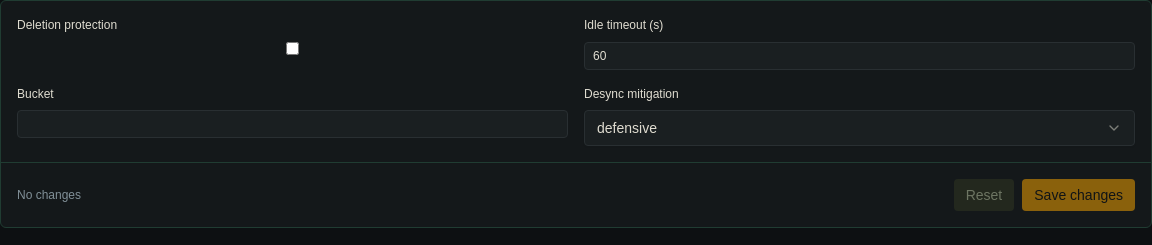
Test: AttributesEditor › Reset reverts dirty values back to initial
This screenshot has width=1152, height=245.
Click the checkbox labelled "Deletion protection": (292, 48) [17,42,568,54]
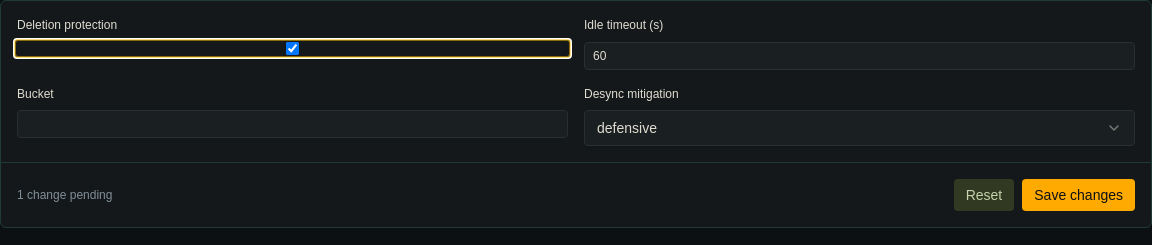
expect the checkbox labelled "Deletion protection" is checked: met, box [17,42,568,54]
Click the button "Reset": (984, 195) [954,179,1014,211]
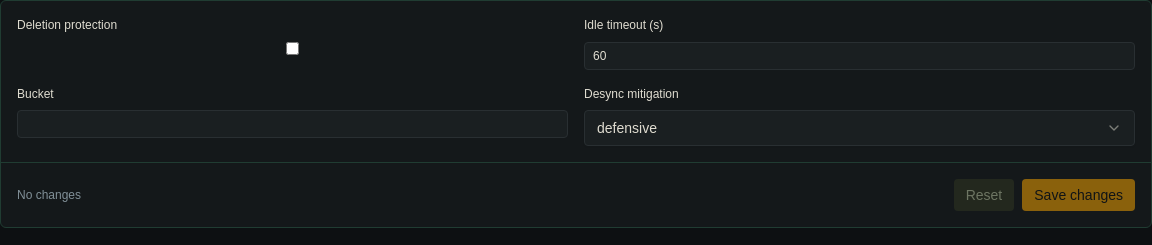
expect the checkbox labelled "Deletion protection" is not checked: met, box [17,42,568,54]
expect the text "No changes" is shown: met, box [17,187,81,203]
